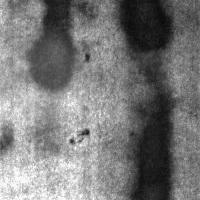patches: (0, 24, 92, 134), (92, 121, 174, 200), (129, 79, 176, 200), (27, 1, 78, 92), (113, 1, 175, 59)
